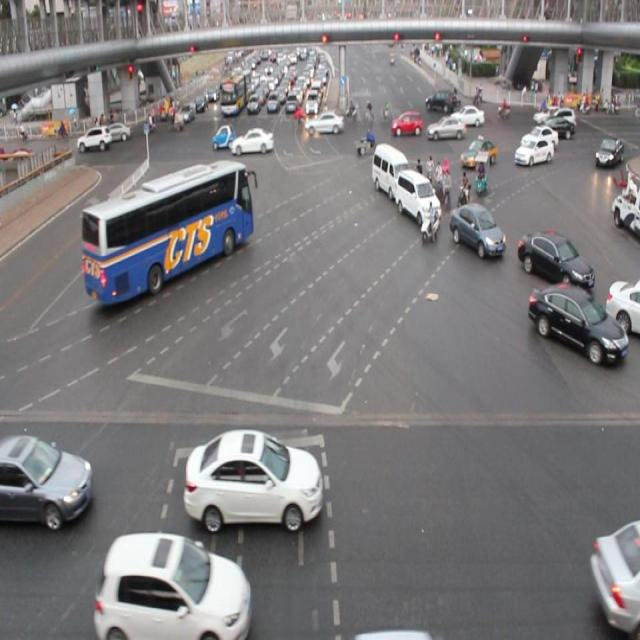car: (93, 527, 251, 640), (183, 429, 322, 532), (1, 423, 95, 536), (527, 280, 626, 368), (586, 517, 640, 628), (515, 223, 593, 291), (448, 197, 507, 260), (604, 272, 640, 336), (231, 126, 273, 155), (515, 137, 553, 168), (461, 138, 496, 168), (425, 116, 467, 139), (519, 125, 556, 148), (390, 110, 422, 135)
truck: (394, 166, 438, 227), (370, 141, 407, 196)
van: (83, 161, 254, 307)
